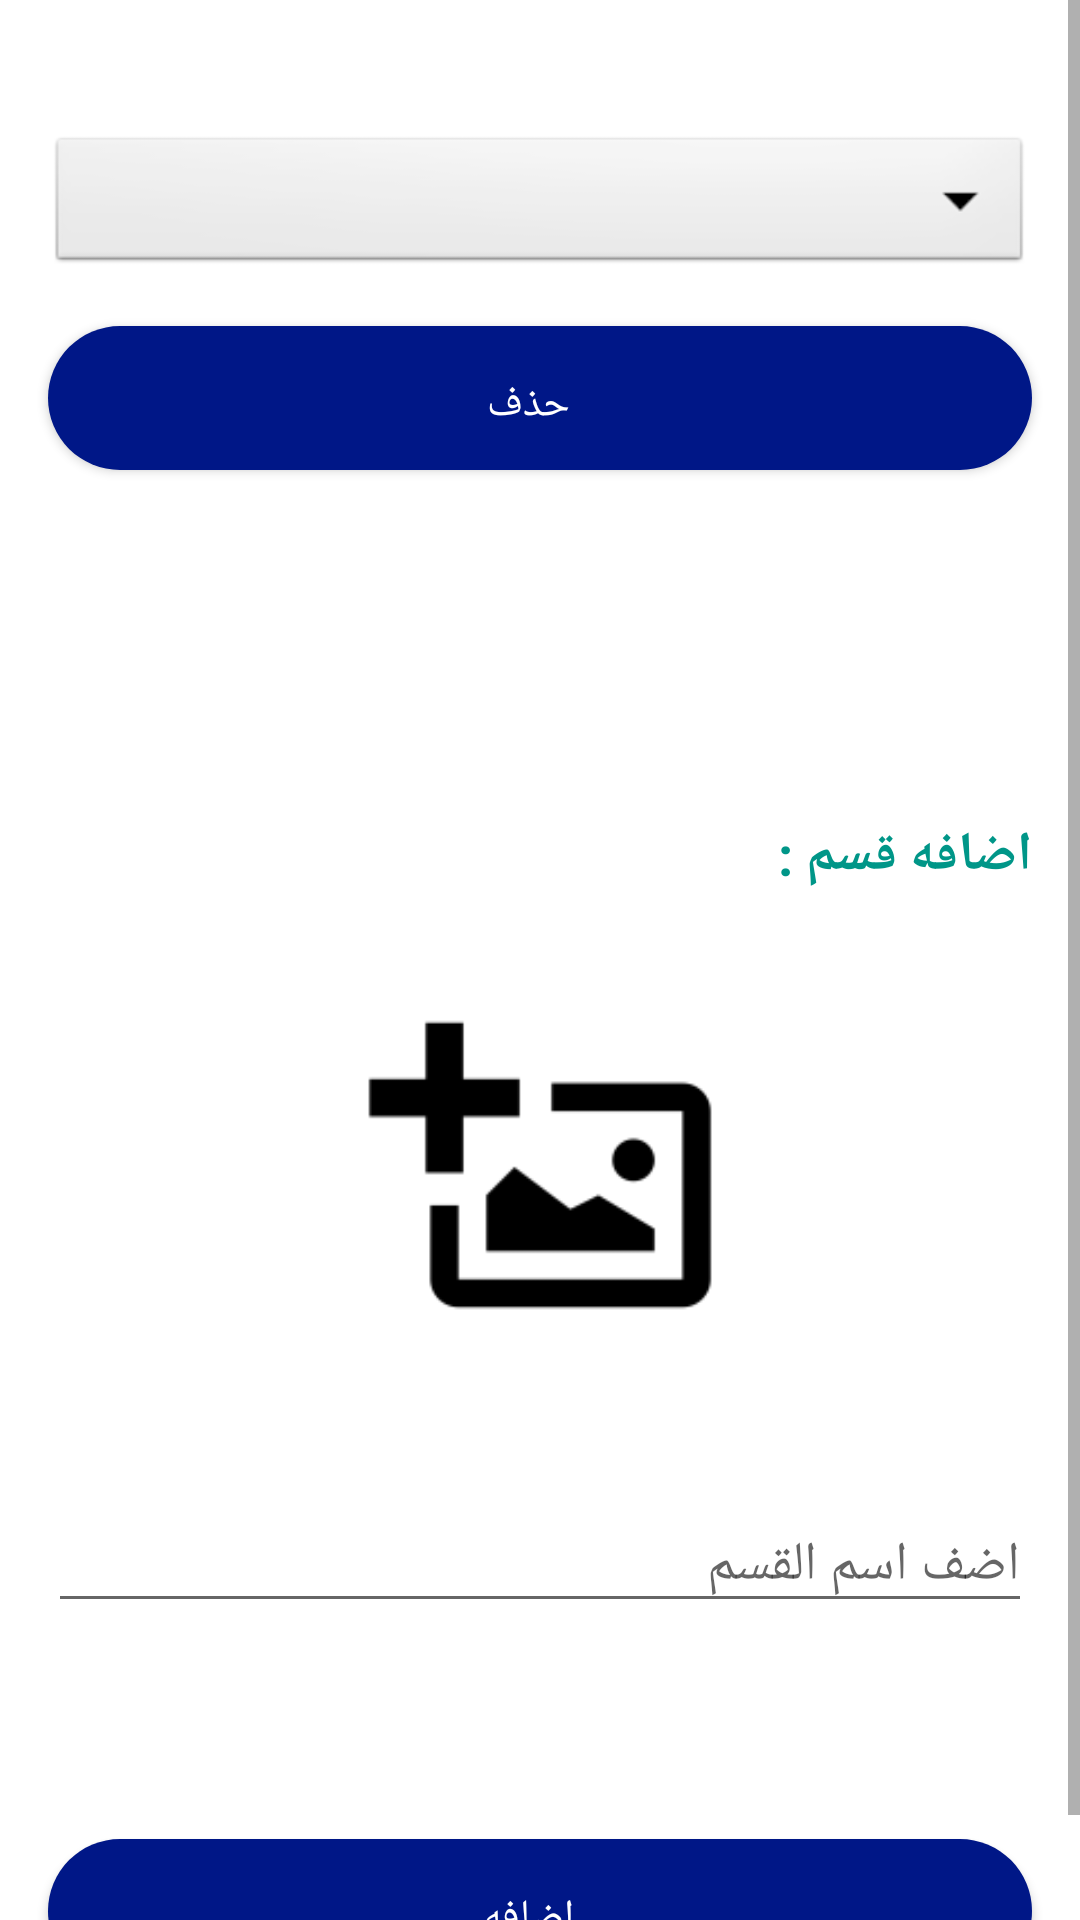

Locate icon controls on the screen. Image size 1080 x 1920, boxes as (x1, y1, x2, y2).
add: (368, 1021, 712, 1309)
